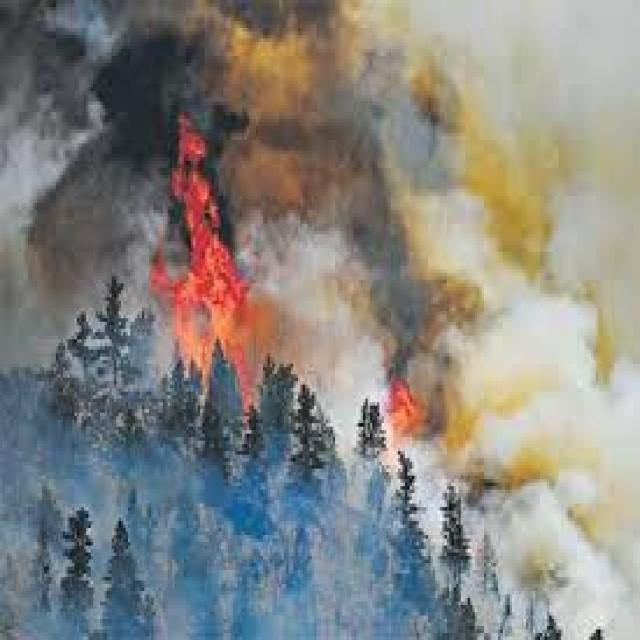Fire: (124, 110, 274, 422), (368, 364, 434, 464)
Smoke: (239, 0, 640, 315), (442, 317, 640, 640), (0, 0, 149, 318)
